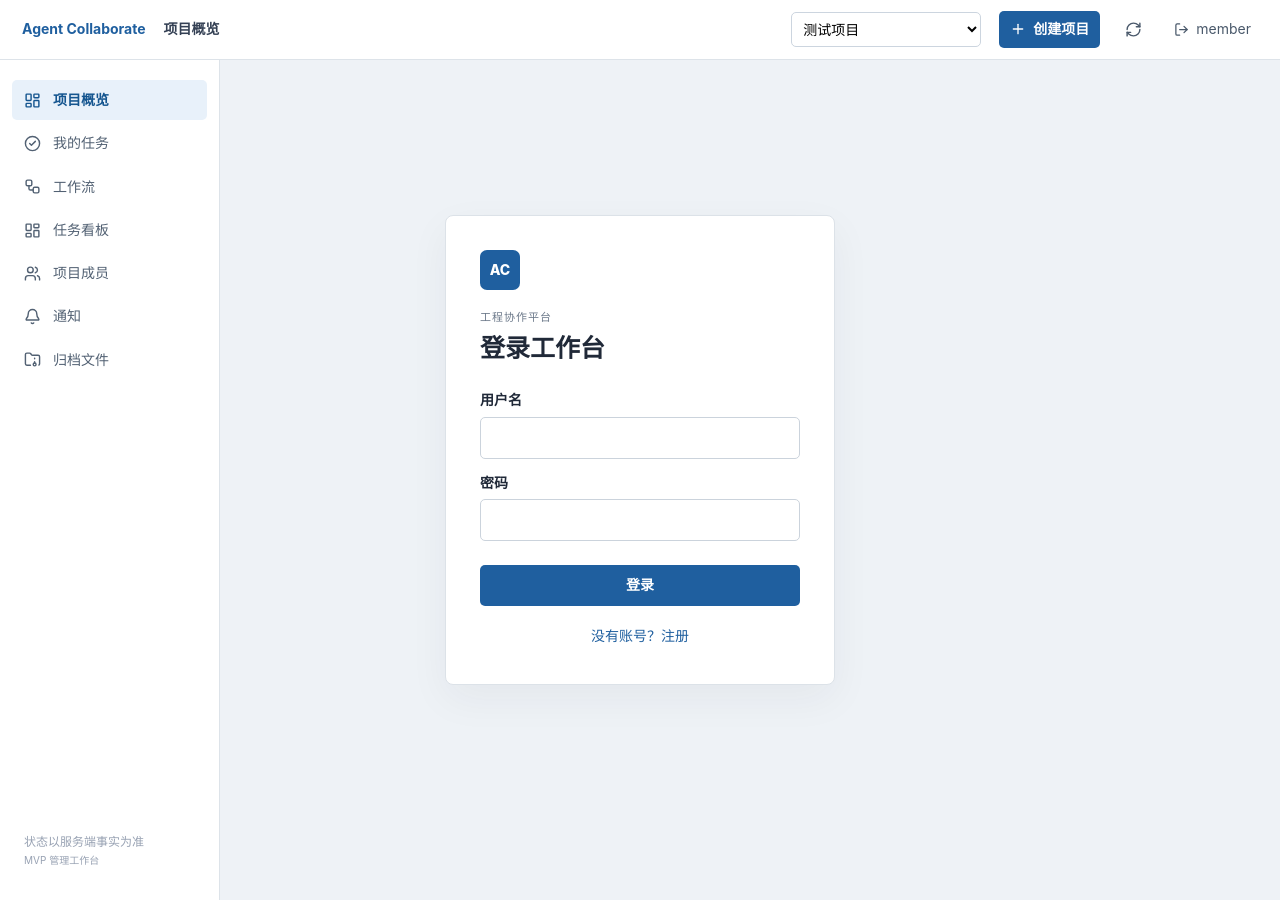
project-scoped navigation › shows CI initialization to members without allowing selection
Click the button "工作流": (110, 187) [12,167,207,207]
(page scrolled)
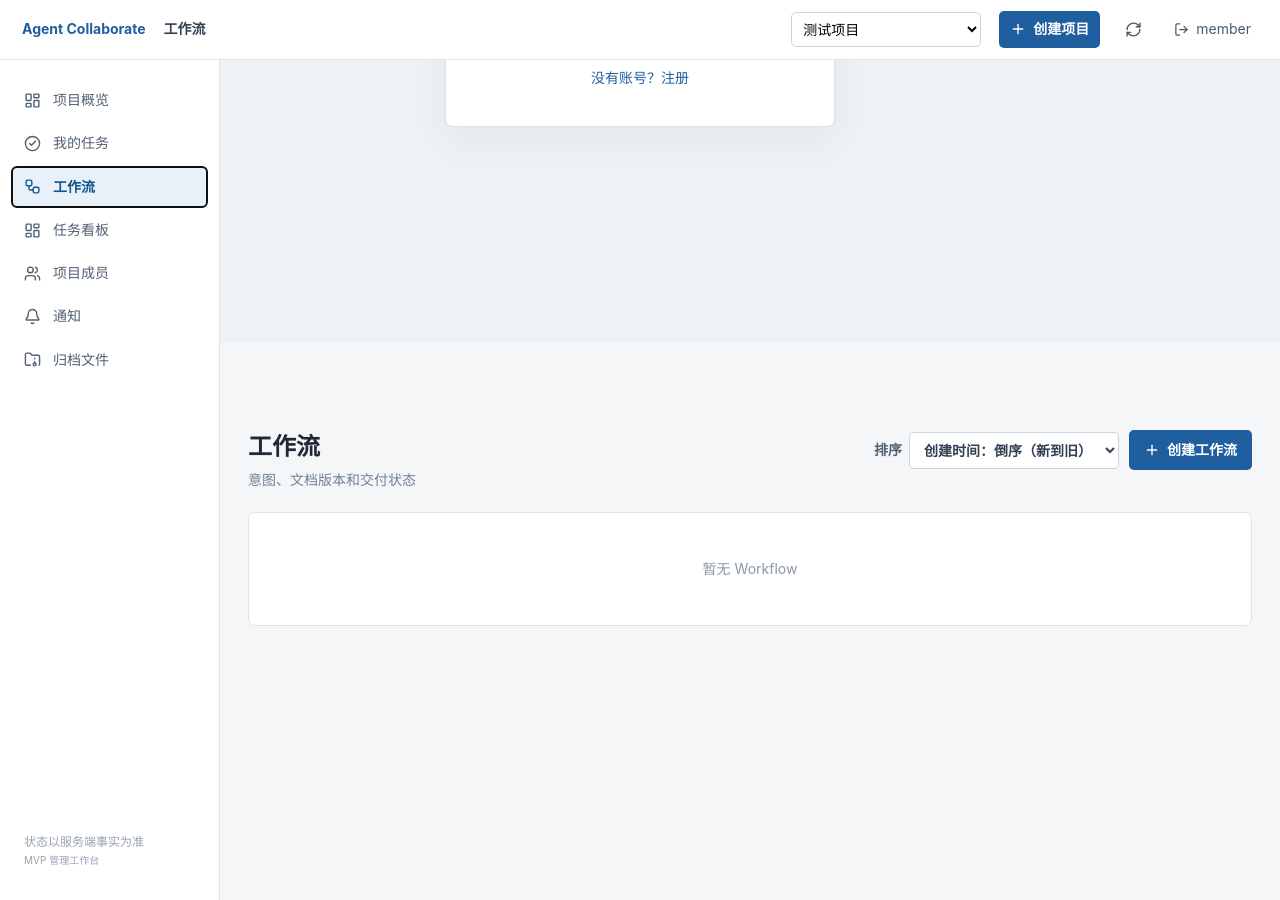
Click the button "创建工作流": (1190, 450) [1129,430,1252,470]
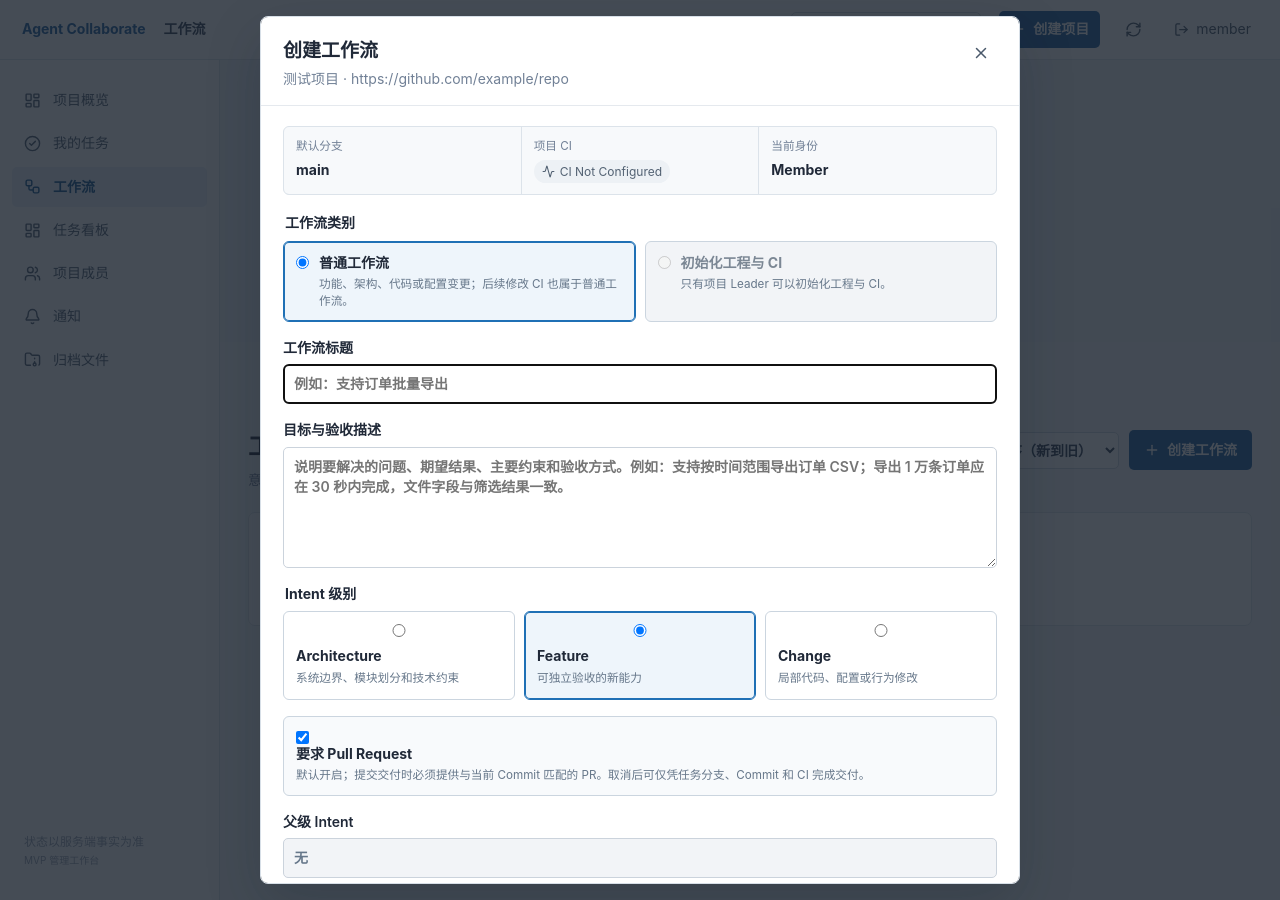
Result: the text "只有项目 Leader 可以初始化工程与 CI。" is shown at [680,276,892,293]
Result: the radio button labelled "初始化工程与 CI 只有项目 Leader 可以初始化工程与 CI。" is disabled at [658,256,670,268]
Result: the radio button labelled "普通工作流 功能、架构、代码或配置变更；后续修改 CI 也属于普通工作流。" is checked at [296,256,309,268]
